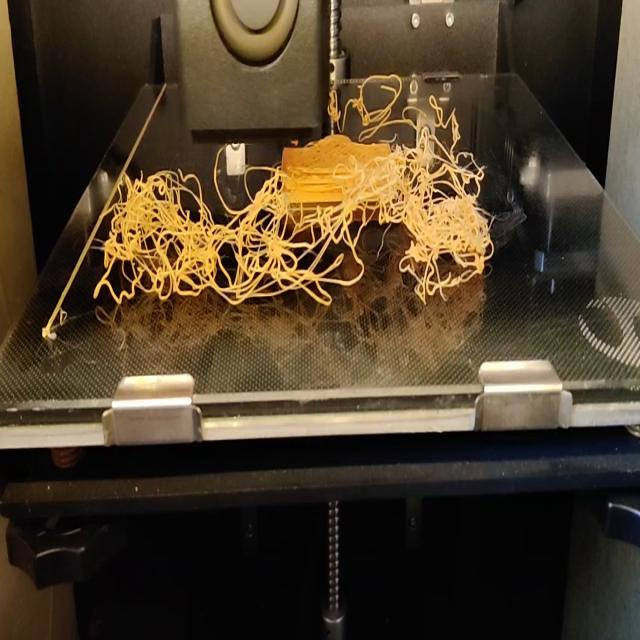spaghetti: (92, 135, 498, 317), (328, 64, 458, 133)
